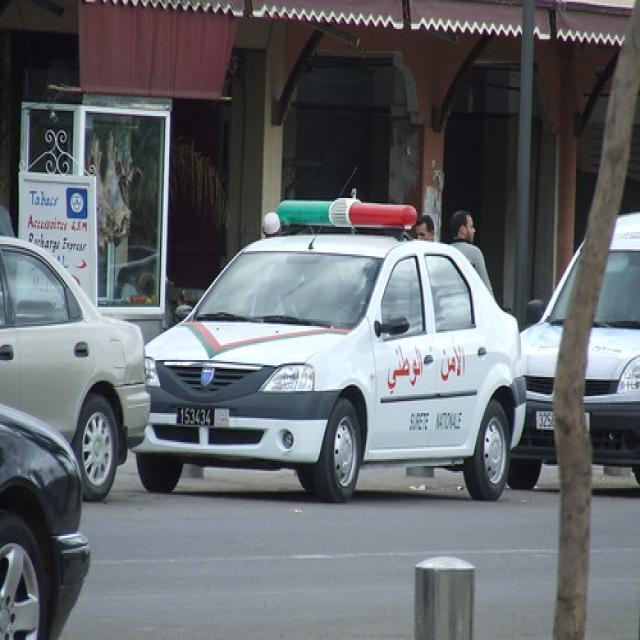police: (144, 196, 519, 489)
